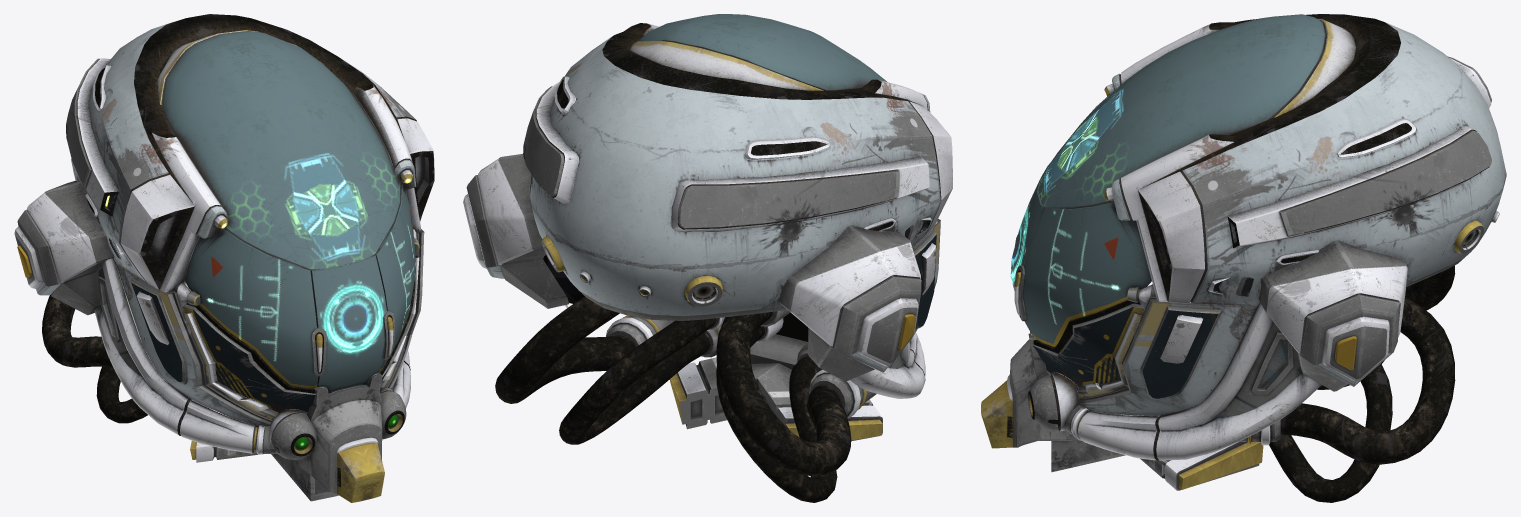
The model's file is xwing.glb.
The picture shows the model from 3 angles, left to right: view 1: azimuth 30°, elevation 25°; view 2: azimuth 150°, elevation 25°; view 3: azimuth 270°, elevation 25°; orthographic projection. The views are drawn at different scales.
Parts seen in each view (by area): view 1: node_damagedHelmet_-6514; view 2: node_damagedHelmet_-6514; view 3: node_damagedHelmet_-6514.
Boxes of the visible parts, x1,y1,x2,y2 form: node_damagedHelmet_-6514: [14, 14, 434, 502]; node_damagedHelmet_-6514: [463, 14, 952, 502]; node_damagedHelmet_-6514: [981, 14, 1506, 502].
Bounding box in the file's own units: 61926 × 59046 × 65534.
Materials: 1 (1 with a texture image).
